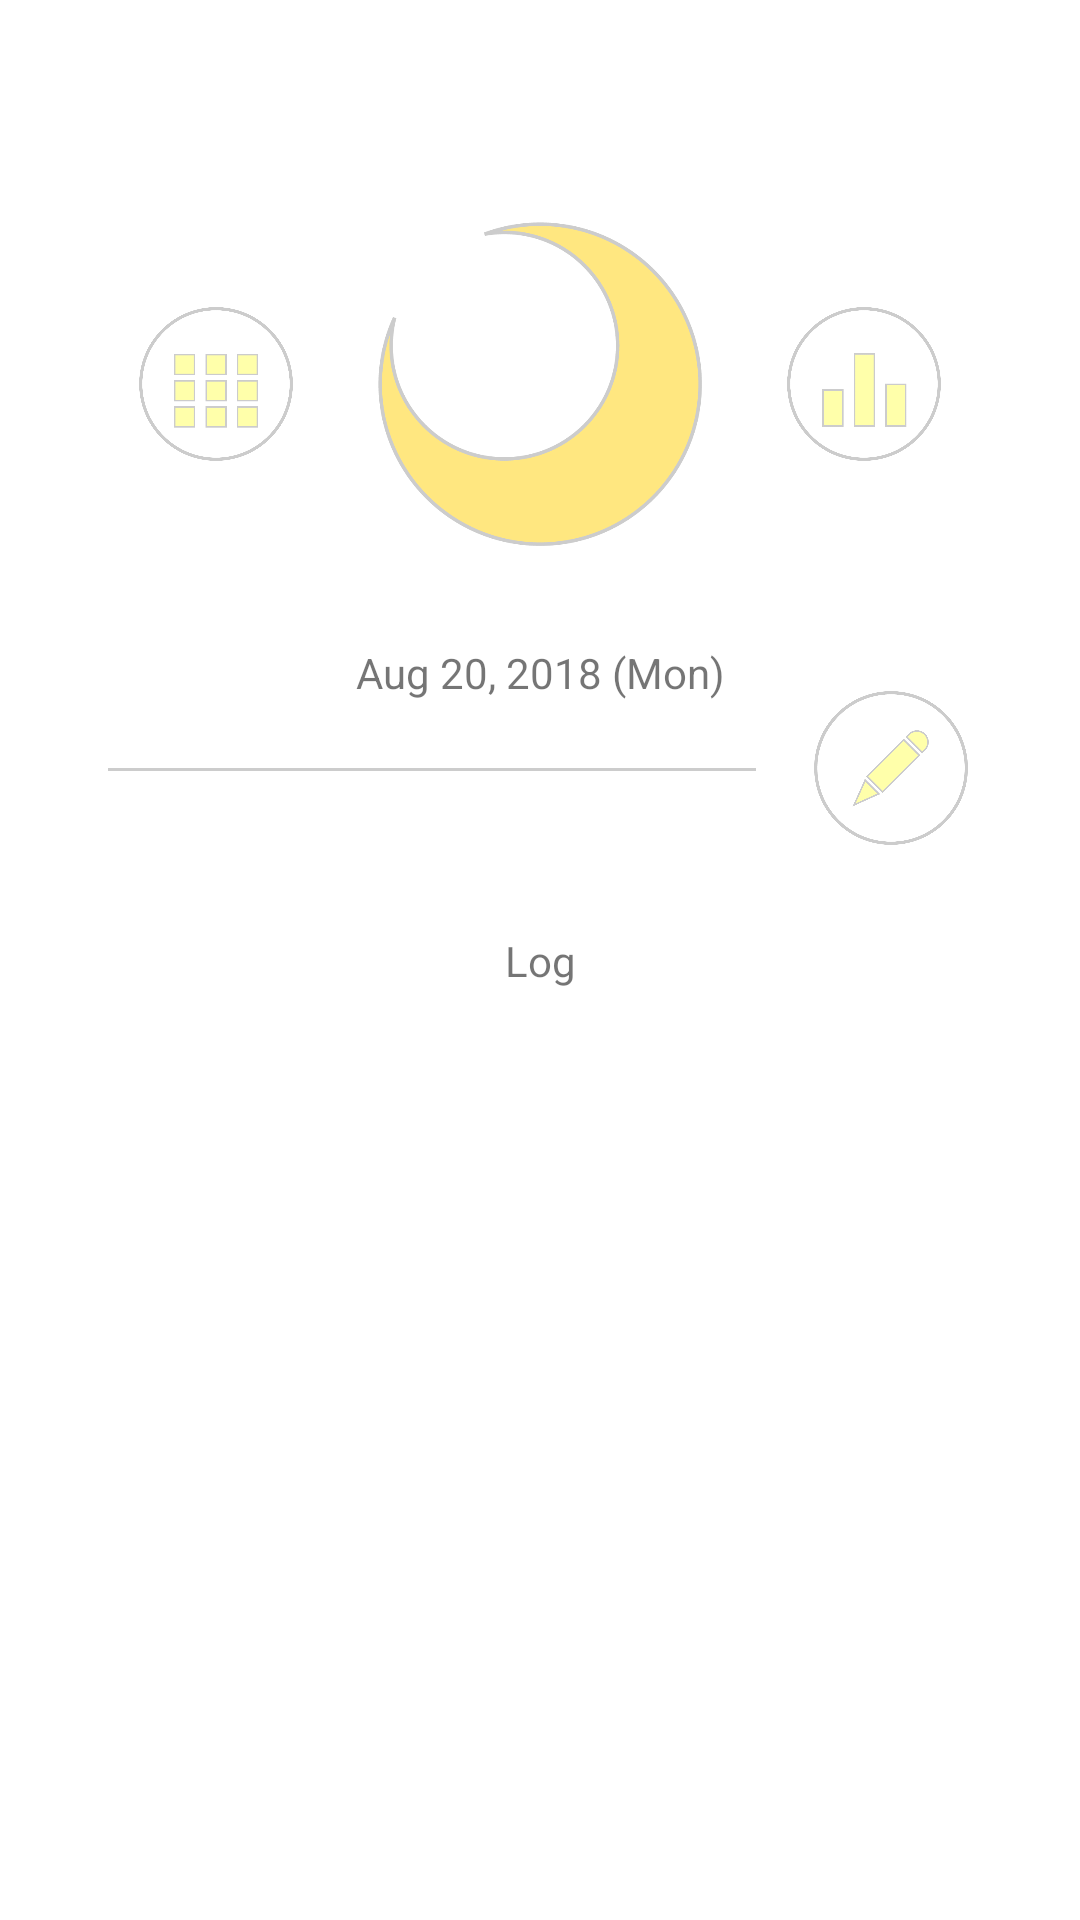

Named icons in this screenshot (1080x1920) and their centers, point (x, y):
aevus log calendar: point (216, 384)
aevus log moon: point (540, 384)
aevus log pencil: point (891, 768)
aevus log stats: point (864, 384)
